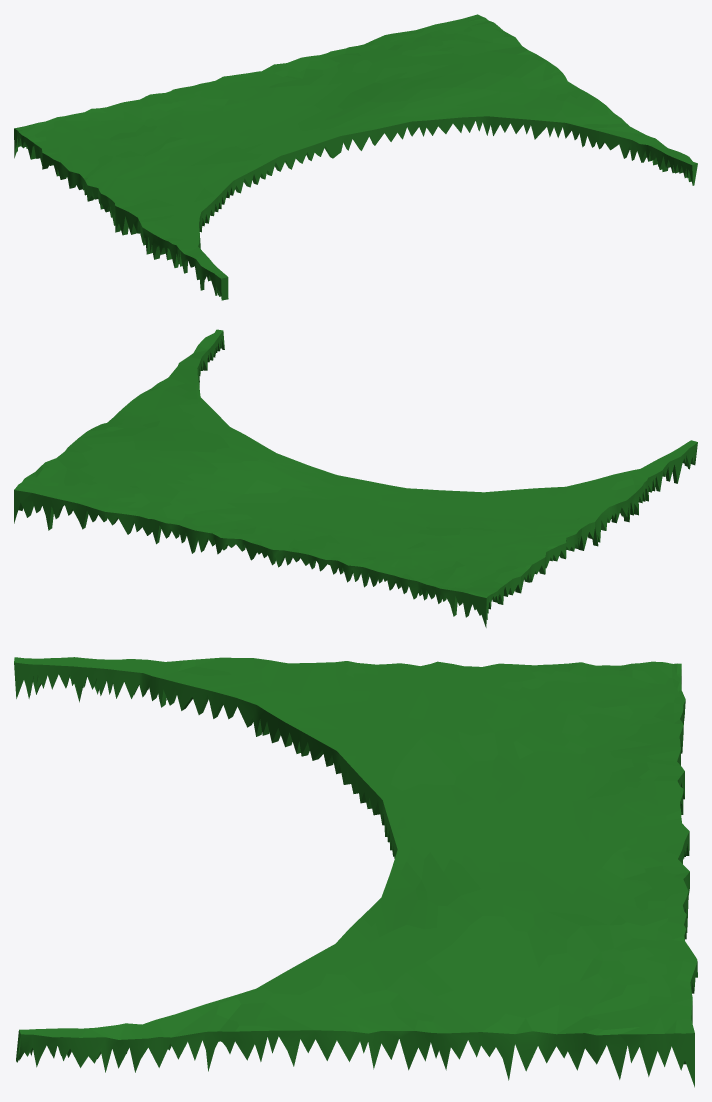
The model's file is grass_layer_arc_medium.fbx.
3 views of the same model, one above another, from view 1: azimuth 30°, elevation 25°; view 2: azimuth 150°, elevation 25°; view 3: azimuth 270°, elevation 25° (orthographic). The views are drawn at different scales.
Parts seen in each view (by area): view 1: grass_layer_arc_medium; view 2: grass_layer_arc_medium; view 3: grass_layer_arc_medium.
Part boxes in pixels (bbox=[...]): grass_layer_arc_medium: bbox=[14, 14, 697, 300]; grass_layer_arc_medium: bbox=[14, 329, 697, 627]; grass_layer_arc_medium: bbox=[14, 657, 697, 1087].
Bounding box in the file's own units: 2321 × 191 × 1779.
